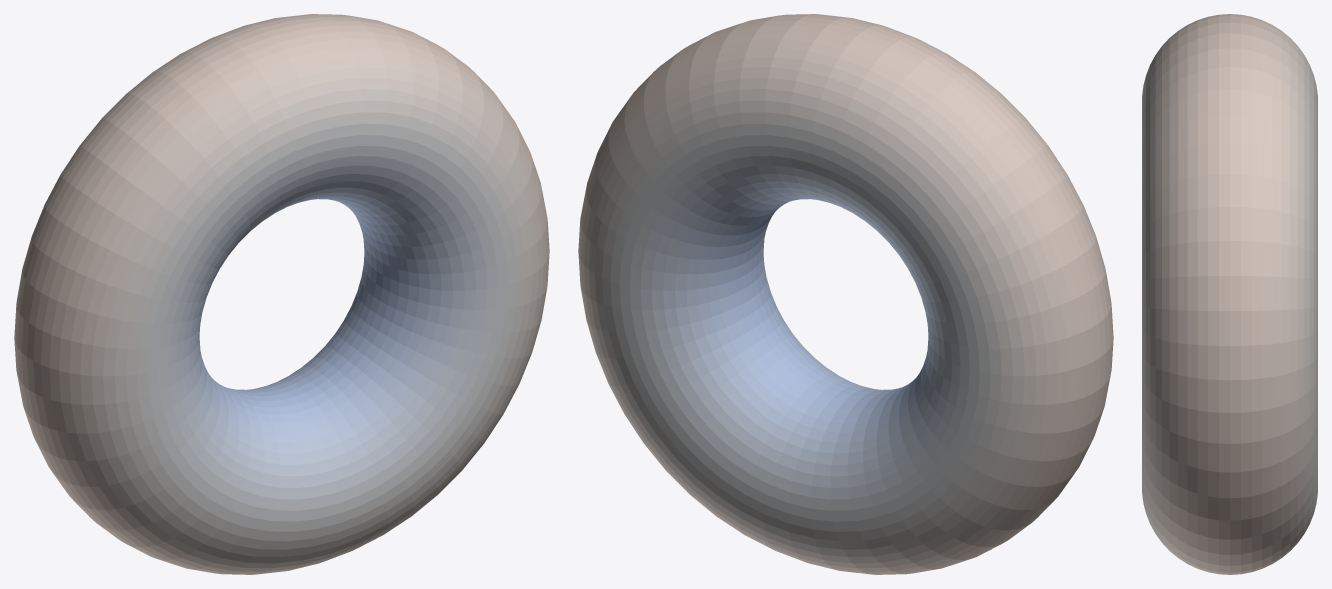
The picture shows the model from 3 angles, left to right: view 1: azimuth 30°, elevation 25°; view 2: azimuth 150°, elevation 25°; view 3: azimuth 270°, elevation 25°; orthographic projection. The views are drawn at different scales.
Parts seen in each view (by area): view 1: world; view 2: world; view 3: world.
Part boxes in pixels (bbox=[...]): world: bbox=[14, 14, 549, 574]; world: bbox=[578, 14, 1113, 574]; world: bbox=[1142, 14, 1317, 574].
Bounding box in the file's own units: 23.33 × 23.29 × 7.32.
